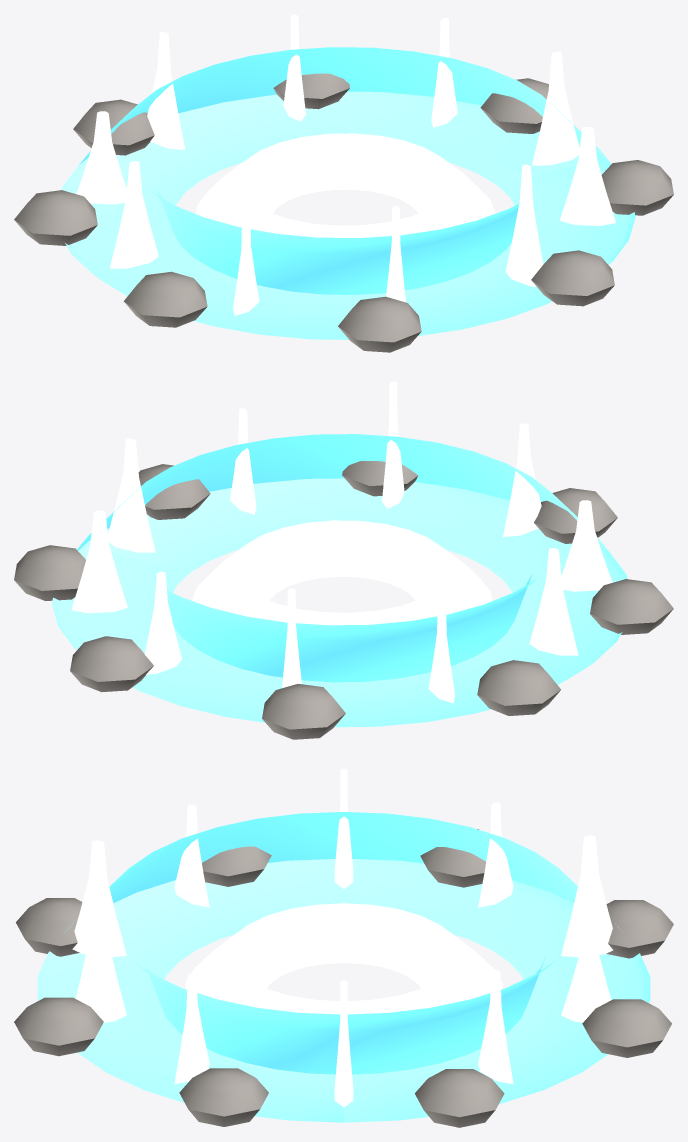
The model's file is fx_shock.glb.
3 renders of one model, top to bottom at view 1: azimuth 30°, elevation 25°; view 2: azimuth 150°, elevation 25°; view 3: azimuth 270°, elevation 25°, orthographic. The views are drawn at different scales.
Parts seen in each view (by area): view 1: shockwave-ring; view 2: shockwave-ring; view 3: shockwave-ring.
Part boxes in pixels (x1,y1,x2,y2): shockwave-ring: [14, 14, 673, 352]; shockwave-ring: [14, 381, 673, 739]; shockwave-ring: [14, 768, 673, 1127].
Bounding box in the file's own units: 1.07 × 0.242 × 1.07.
